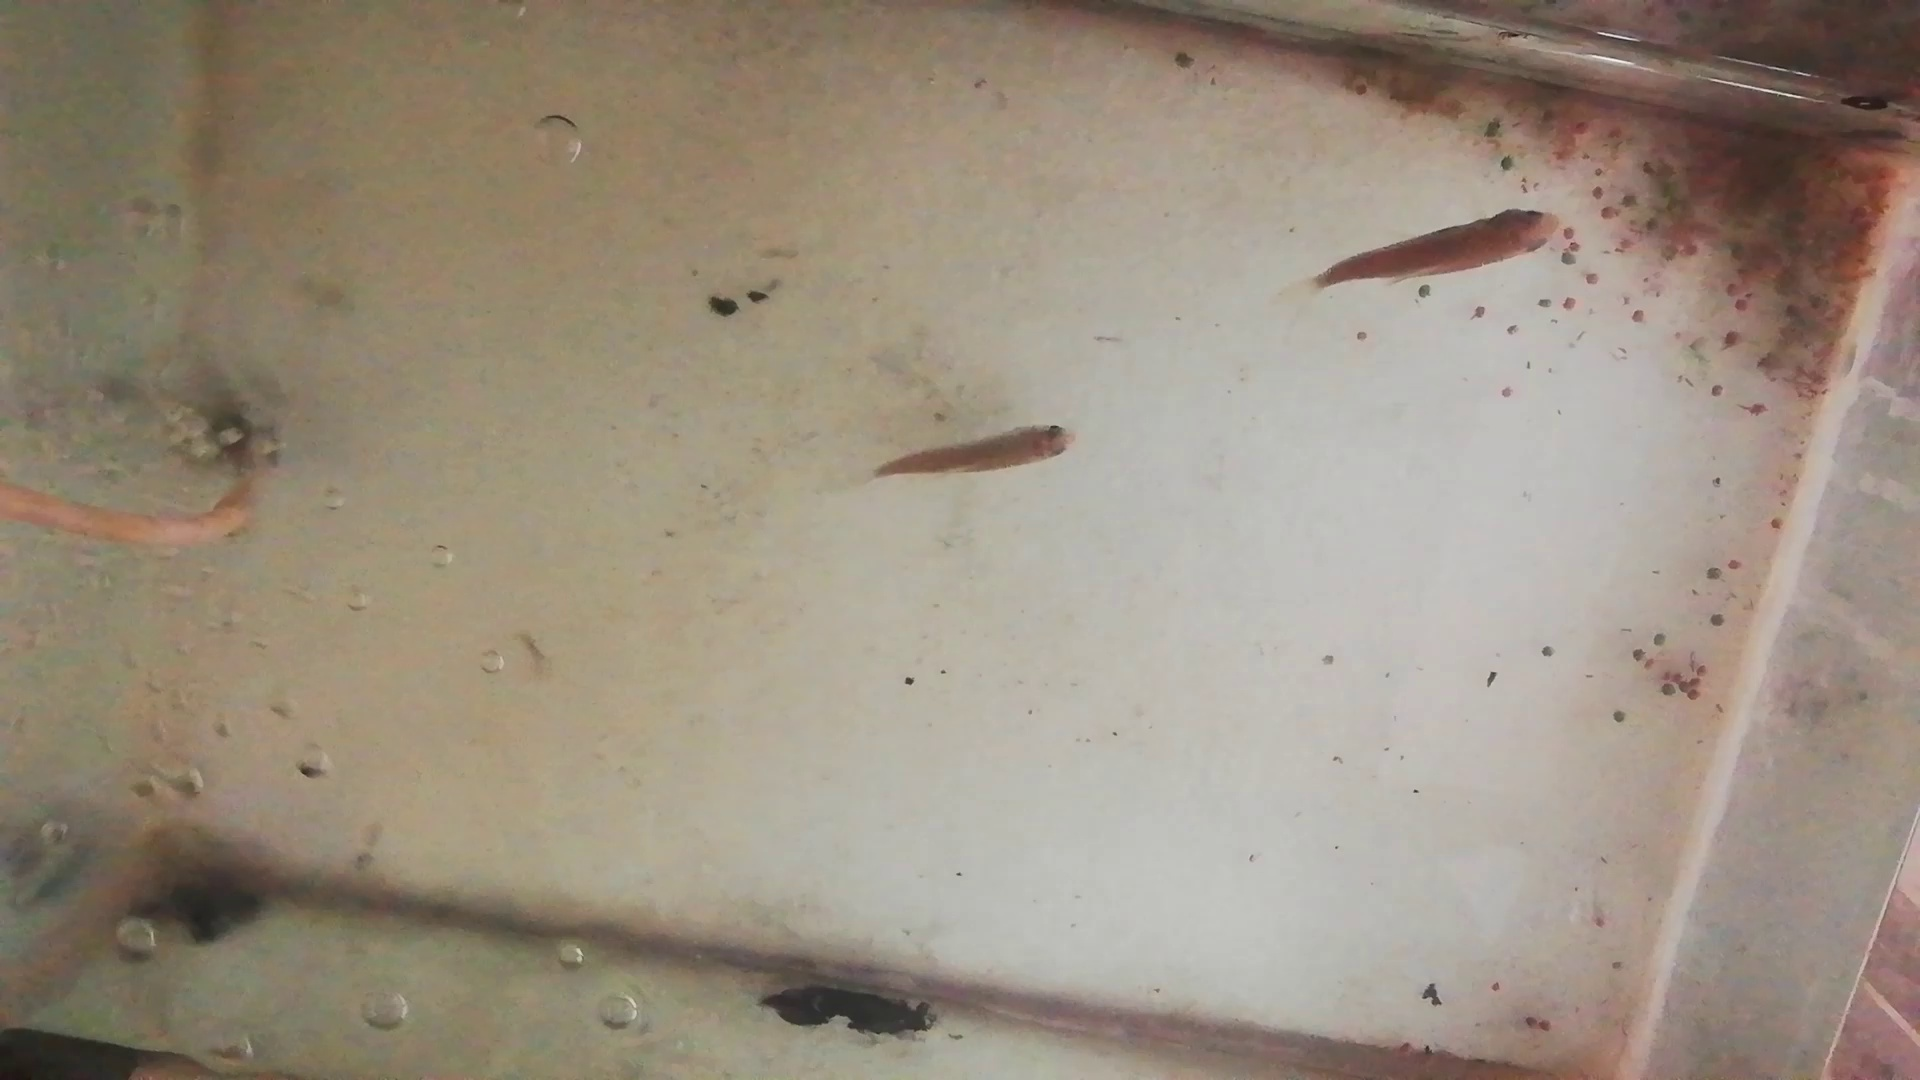fish: (1315, 207, 1568, 285), (874, 421, 1081, 476)
